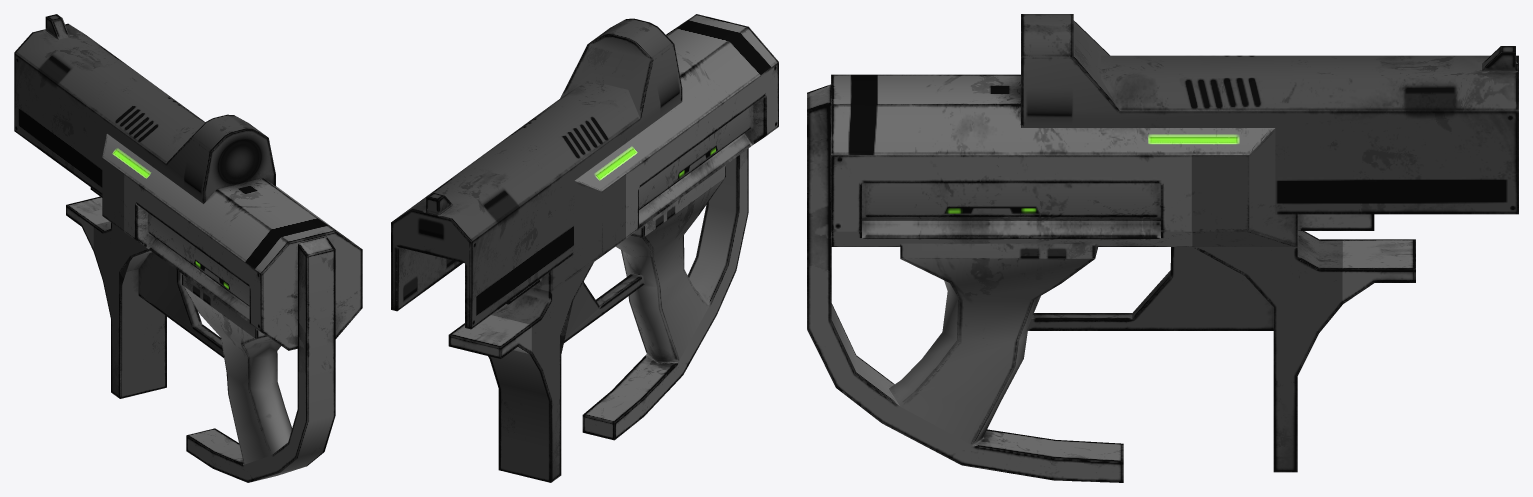
Rendered from IG_Gun_StormBoss_Poison.fbx.
3 renders of one model, left to right at view 1: azimuth 30°, elevation 25°; view 2: azimuth 150°, elevation 25°; view 3: azimuth 270°, elevation 25°, orthographic. The views are drawn at different scales.
Visible parts, largest first — view 1: Pfb_WPN_MiniGun; view 2: Pfb_WPN_MiniGun; view 3: Pfb_WPN_MiniGun.
Boxes of the visible parts, x1,y1,x2,y2 form: Pfb_WPN_MiniGun: [14, 14, 362, 482]; Pfb_WPN_MiniGun: [391, 14, 778, 482]; Pfb_WPN_MiniGun: [807, 14, 1518, 482].
Bounding box in the file's own units: 0.1377 × 0.4491 × 0.639.
